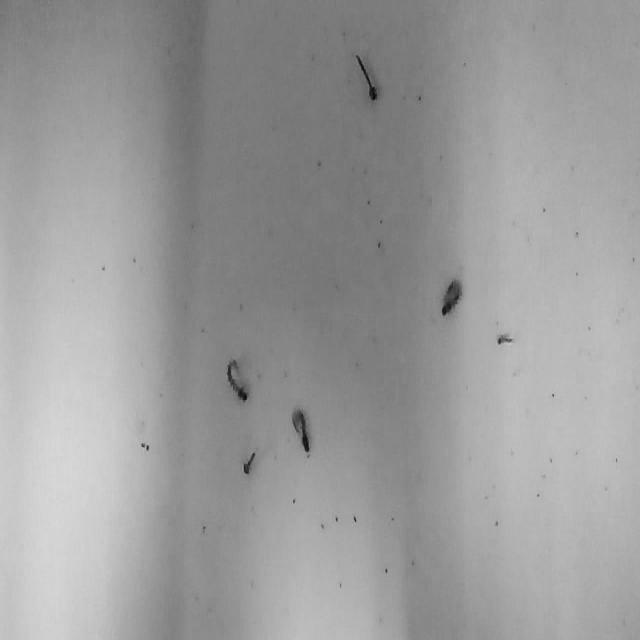larvas: (354, 54, 377, 100), (225, 358, 248, 400), (291, 407, 311, 452), (441, 279, 462, 316), (242, 451, 255, 473), (496, 333, 513, 345)
